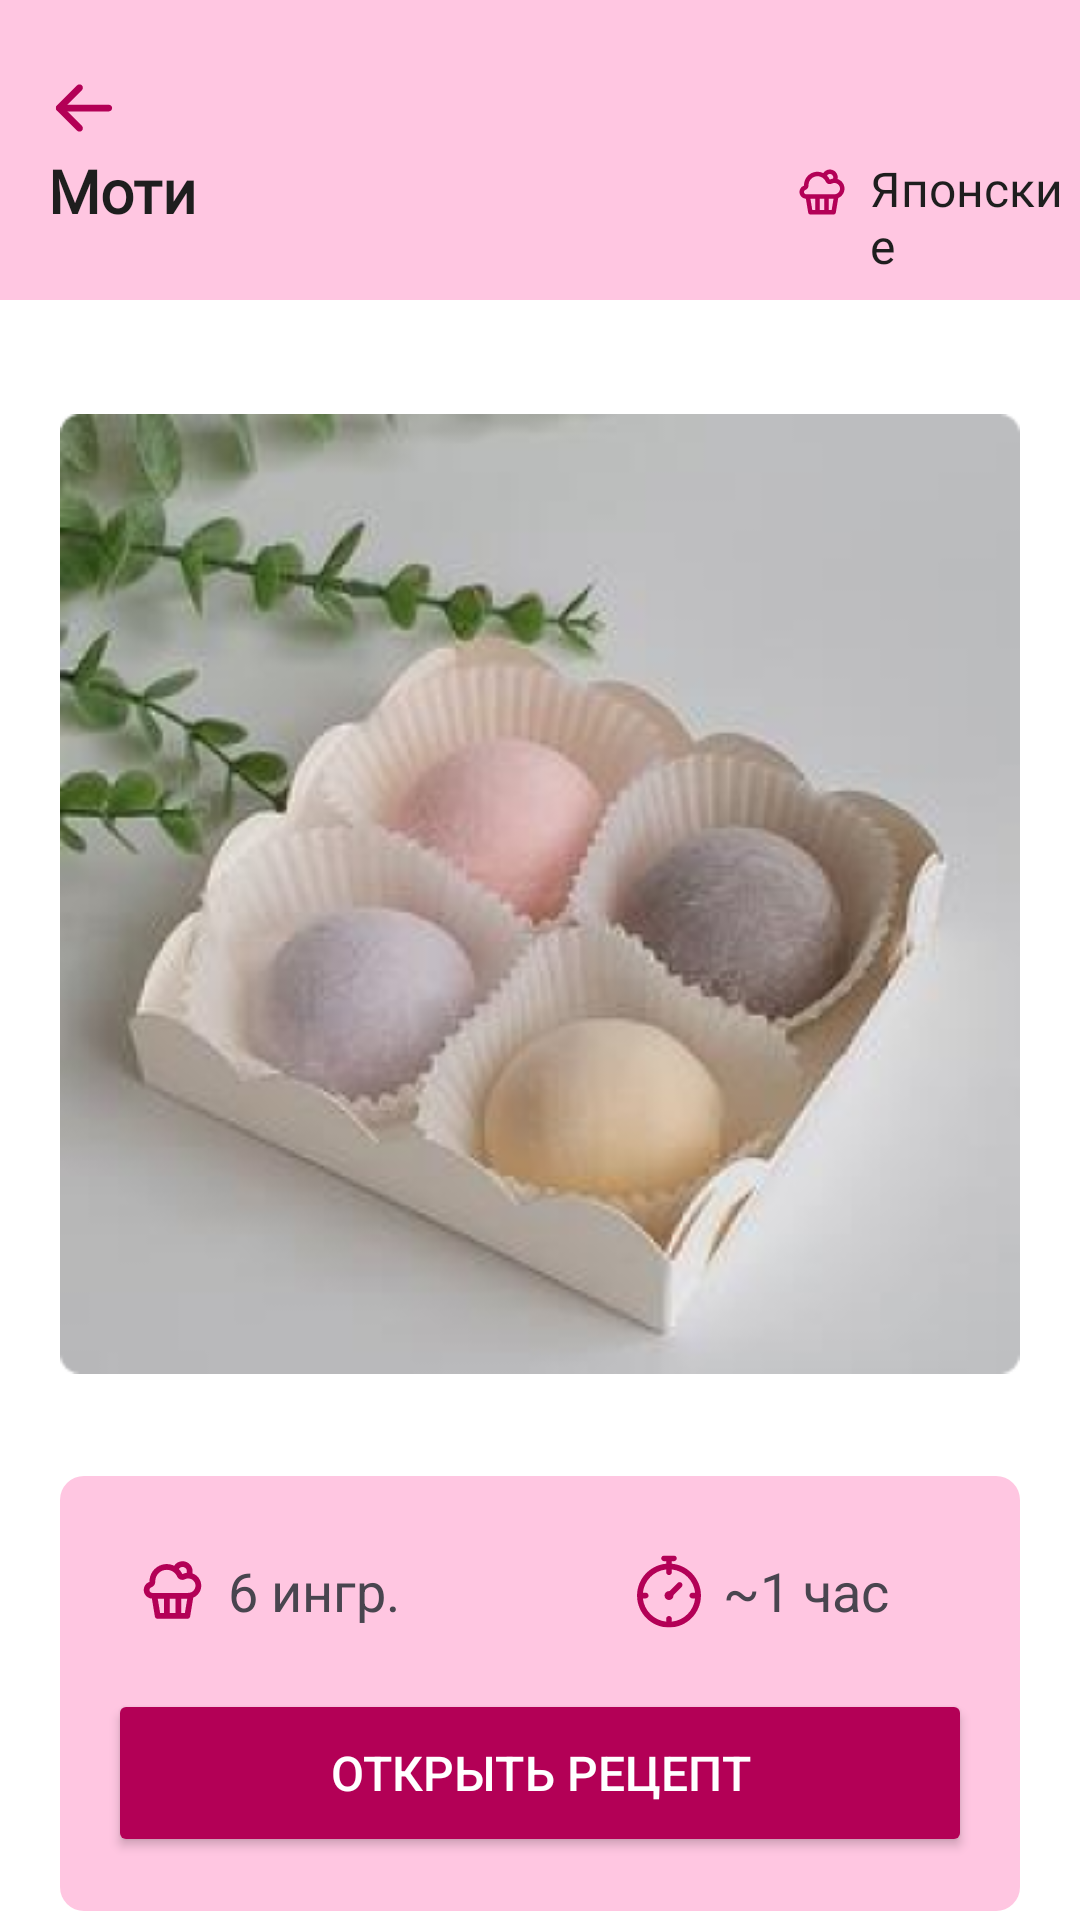

Point at icon controls on the screen. Image size 1080 × 1920, points as (x,y).
second back: (84,108)
timer: (669,1591)
